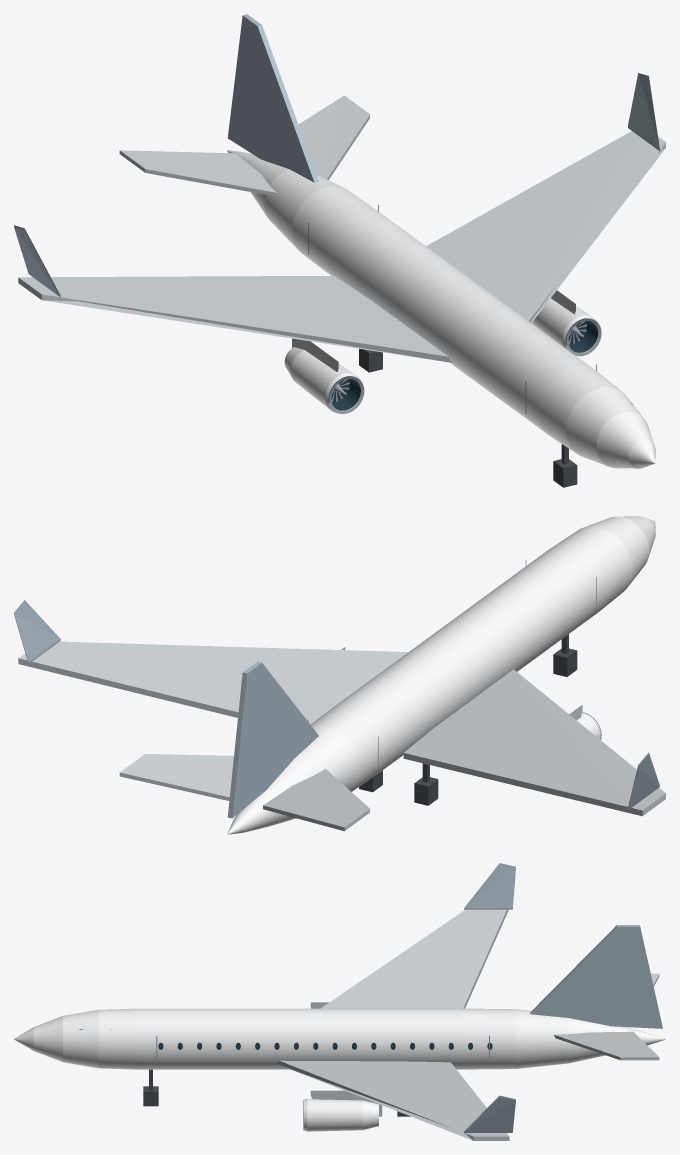
File: regional-neutral-v2.gltf
3 renders of one model, top to bottom at view 1: azimuth 30°, elevation 25°; view 2: azimuth 150°, elevation 25°; view 3: azimuth 270°, elevation 25°, orthographic. The views are drawn at different scales.
Visible parts, largest first — view 1: object 1, Gear; view 2: object 1, Gear; view 3: object 1, Gear.
Boxes of the visible parts, x1,y1,x2,y2 form: object 1: [14, 14, 665, 468]; Gear: [359, 349, 577, 487]; object 1: [14, 516, 665, 834]; Gear: [359, 634, 577, 805]; object 1: [14, 863, 665, 1140]; Gear: [143, 1069, 410, 1116].
Size of the model in its own units: 27 by 9.64 by 32.
